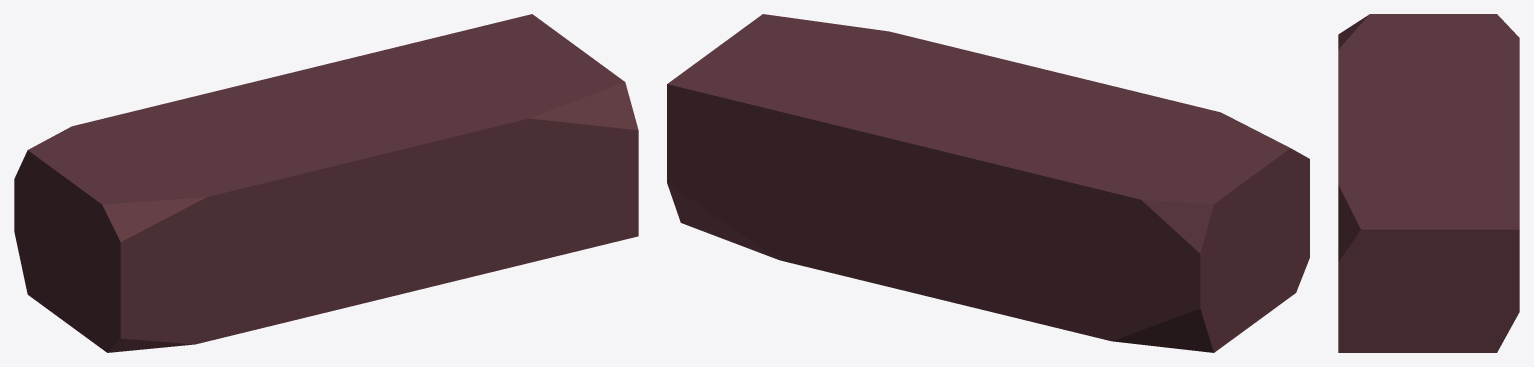
Rendered from egypt-stone-block-square.fbx.
The picture shows the model from 3 angles, left to right: view 1: azimuth 30°, elevation 25°; view 2: azimuth 150°, elevation 25°; view 3: azimuth 270°, elevation 25°; orthographic projection. The views are drawn at different scales.
Visible parts, largest first — view 1: egypt-stone-block-square; view 2: egypt-stone-block-square; view 3: egypt-stone-block-square.
Part boxes in pixels (x1,y1,x2,y2): egypt-stone-block-square: (14, 14, 638, 352); egypt-stone-block-square: (667, 14, 1309, 352); egypt-stone-block-square: (1338, 14, 1519, 352).
Bounding box in the file's own units: 9 × 2.4 × 3.2.
